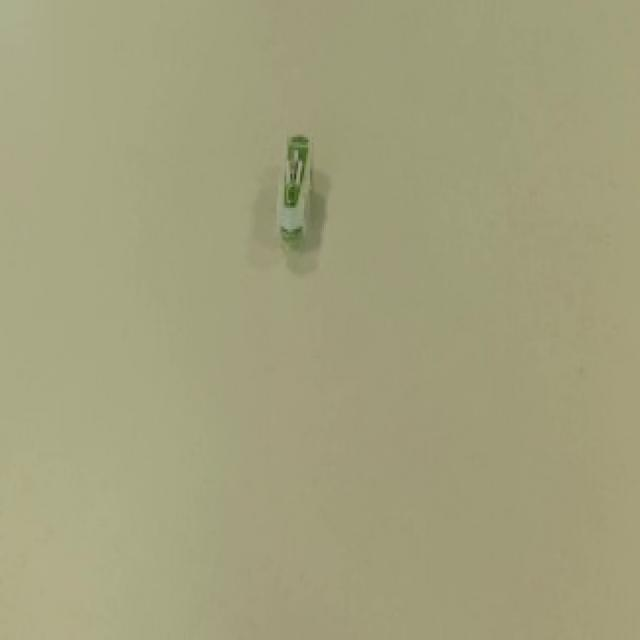4_NanoBug_Blanco: (230, 101, 372, 288)
